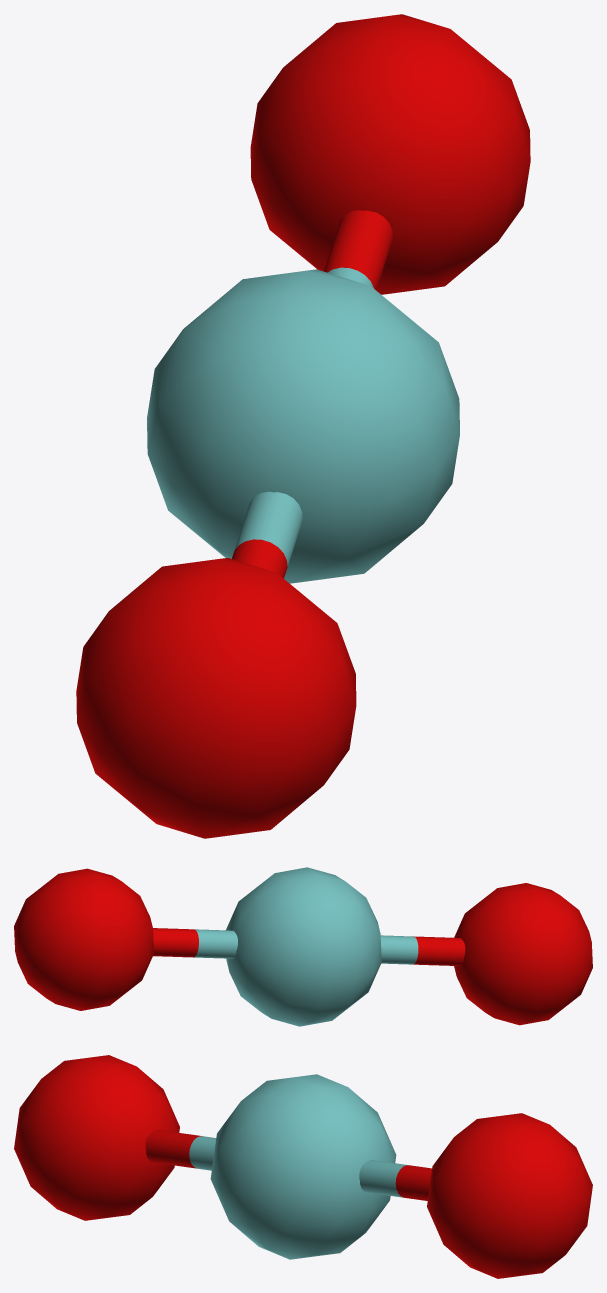
3 views of the same model, one above another, from view 1: azimuth 30°, elevation 25°; view 2: azimuth 150°, elevation 25°; view 3: azimuth 270°, elevation 25° (orthographic). The views are drawn at different scales.
Parts seen in each view (by area): view 1: vmd_mol0_rep0; view 2: vmd_mol0_rep0; view 3: vmd_mol0_rep0.
Part boxes in pixels (bbox=[...]): vmd_mol0_rep0: bbox=[76, 14, 530, 838]; vmd_mol0_rep0: bbox=[14, 867, 592, 1026]; vmd_mol0_rep0: bbox=[14, 1055, 592, 1278].
Size of the model in its own units: 1.18 by 0.6049 by 1.31.
